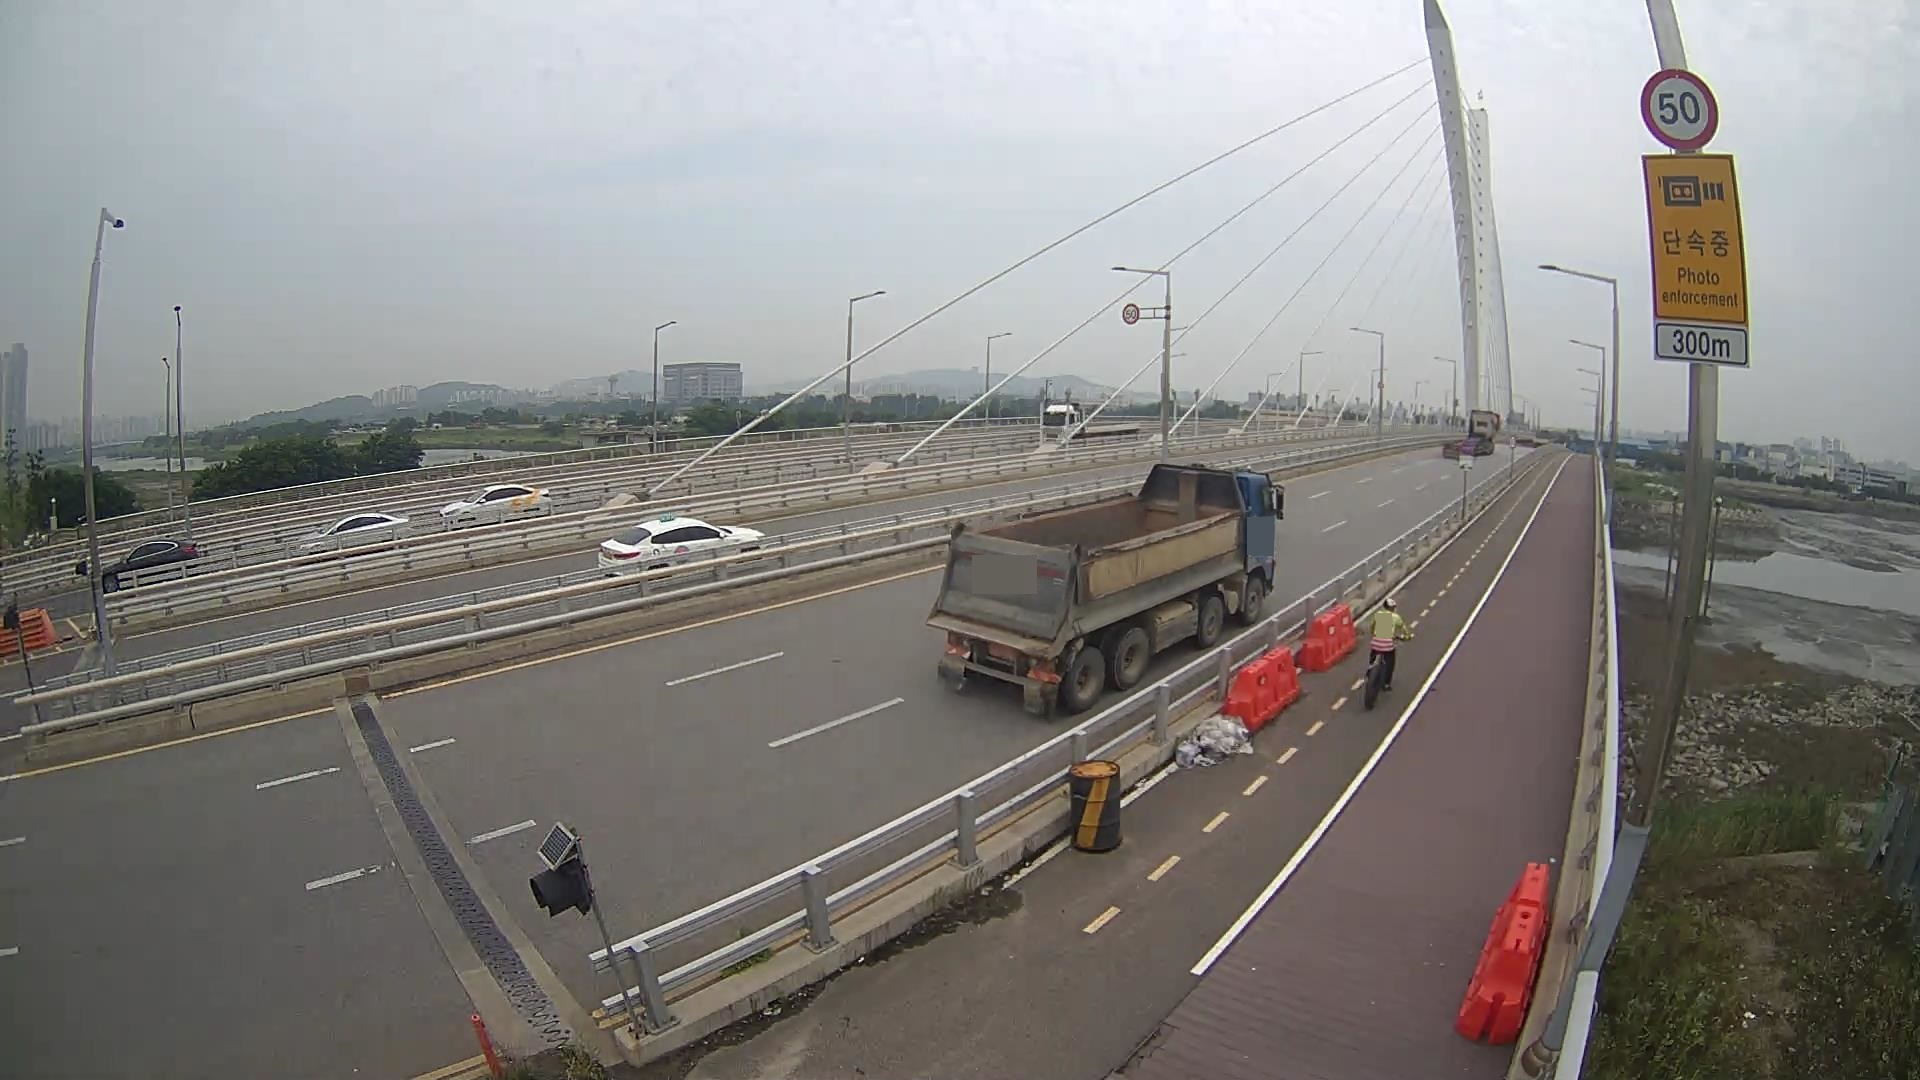정상차량: (926, 464, 1284, 719)
